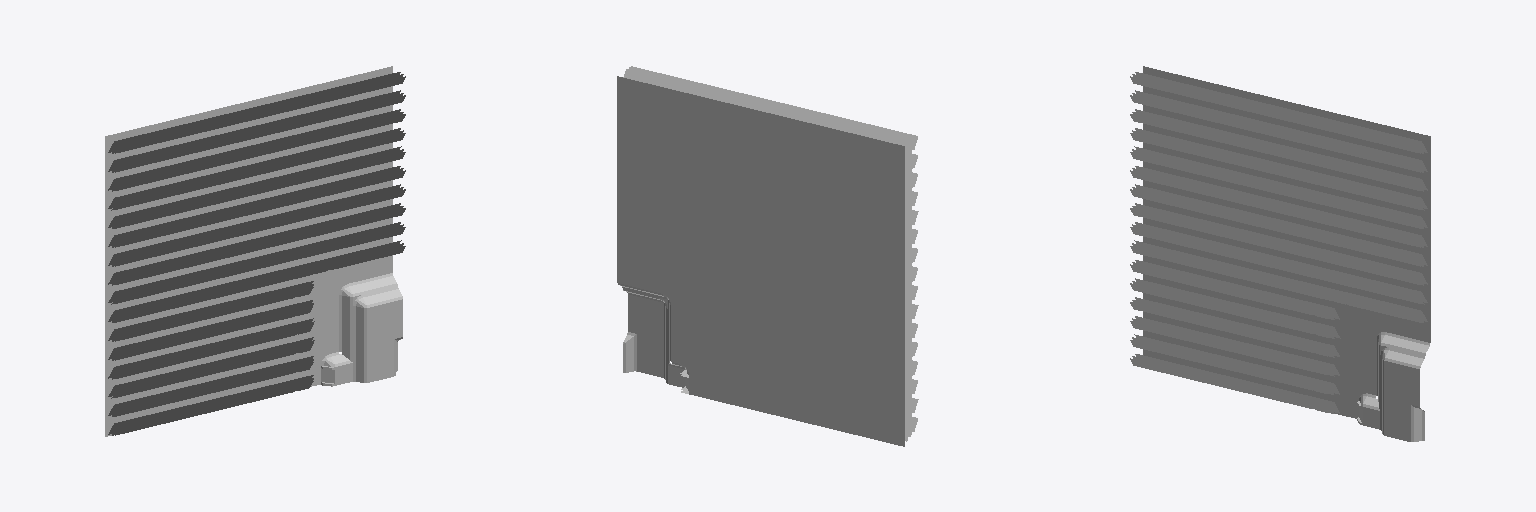
File: Plat_full_06_10.obj
The picture shows the model from 3 angles: view 1: azimuth 30°, elevation 25°; view 2: azimuth 150°, elevation 25°; view 3: azimuth 330°, elevation 25°; orthographic projection.
Visible parts, largest first — view 1: map; view 2: map; view 3: map.
Boxes of the visible parts, x1=… form: map: x1=105, y1=66, x2=405, y2=436; map: x1=617, y1=66, x2=918, y2=446; map: x1=1130, y1=66, x2=1430, y2=441.
Size of the model in its own units: 32 by 32.12 by 2.64.